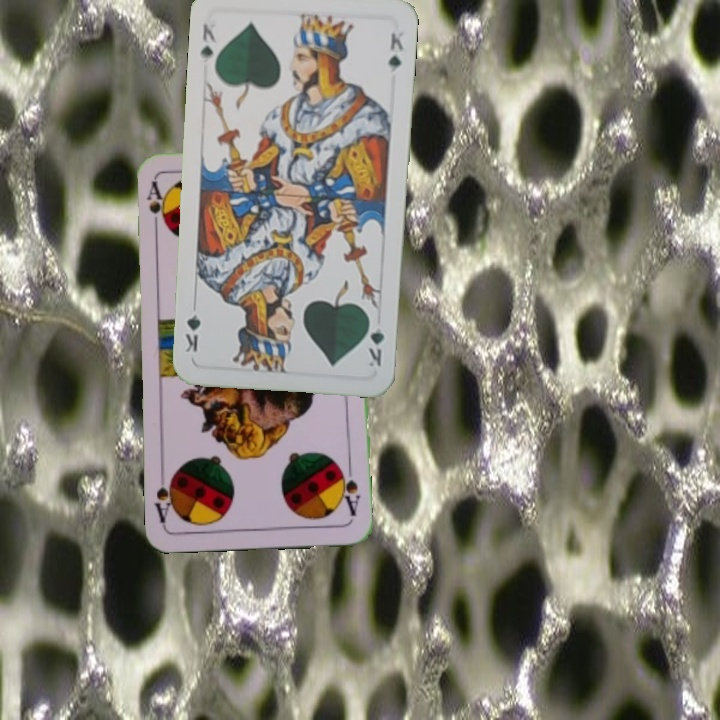GK: (364, 312, 387, 369), (196, 20, 219, 65)
SA: (336, 461, 363, 519), (143, 178, 168, 237)
